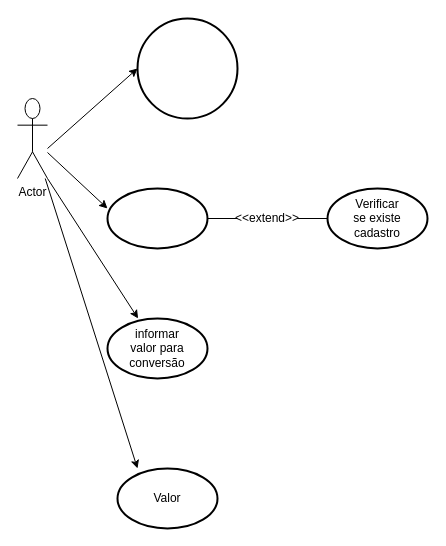
Some shapes in this 446 by 546 pixel diagram are drawn without their labels. Here are the shapes that lost their labels. From the top down, the centre of each, then its label:
At point (187, 68): "Cadastro de Usuário".
At point (157, 218): "Efetuar login".
